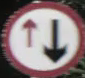Two way: (12, 9, 72, 72)
